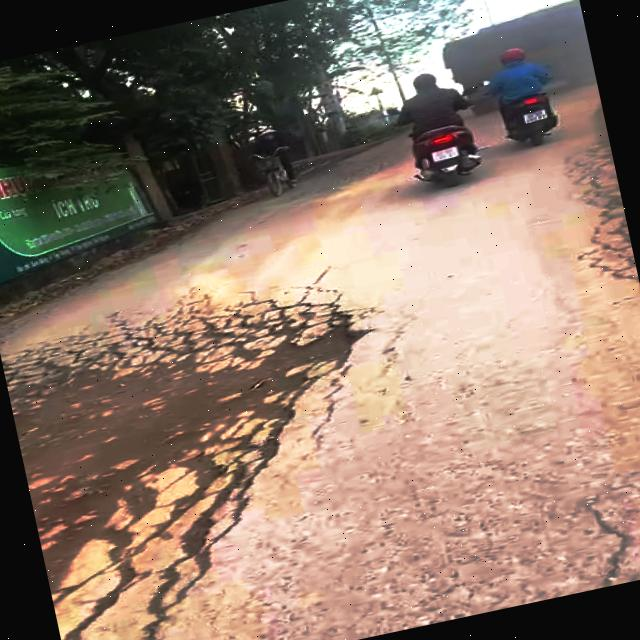pothole: (0, 273, 421, 640)
